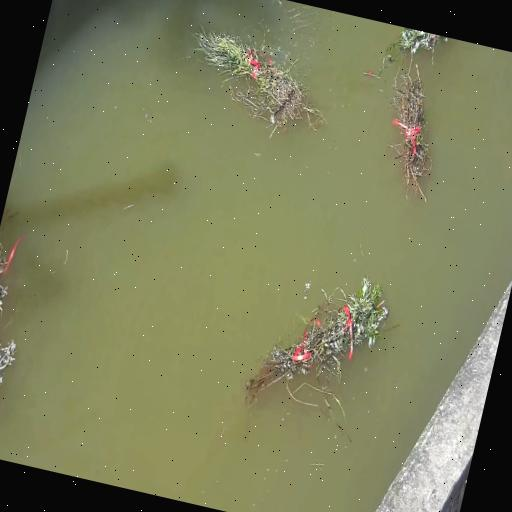twig: (242, 252, 400, 435), (174, 21, 336, 148), (369, 62, 455, 206), (0, 217, 47, 431), (182, 21, 268, 88), (378, 24, 446, 84)
